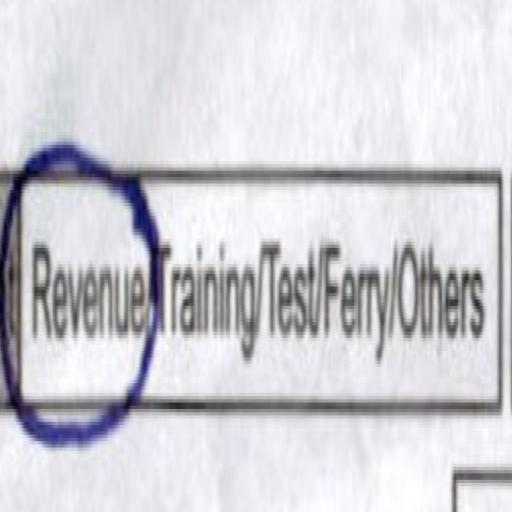check: (26, 92, 156, 485)
